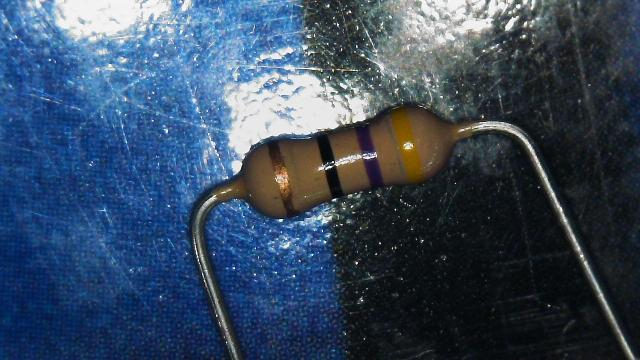black: (316, 134, 344, 199)
gold: (268, 140, 291, 210)
resistor: (211, 104, 478, 226)
violet: (356, 123, 384, 188)
yellow: (391, 111, 424, 181)
